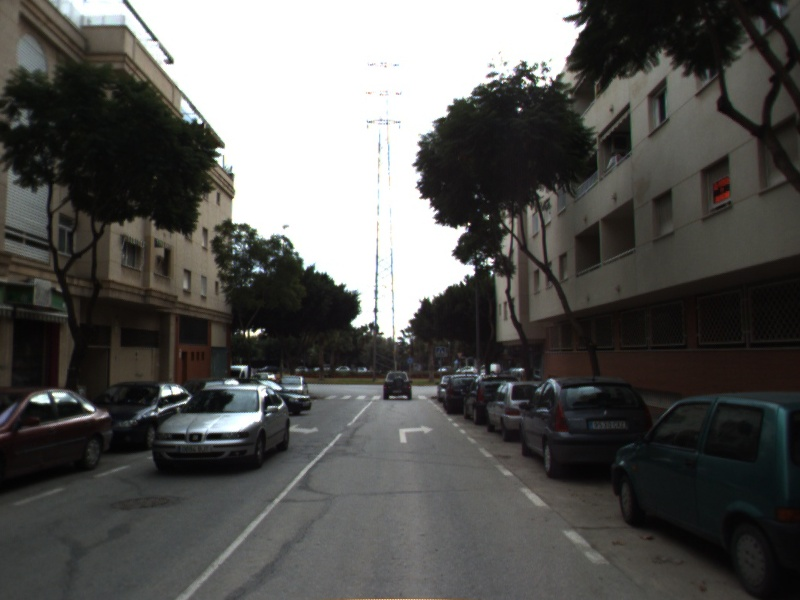RIGHT: (396, 423, 437, 445)
